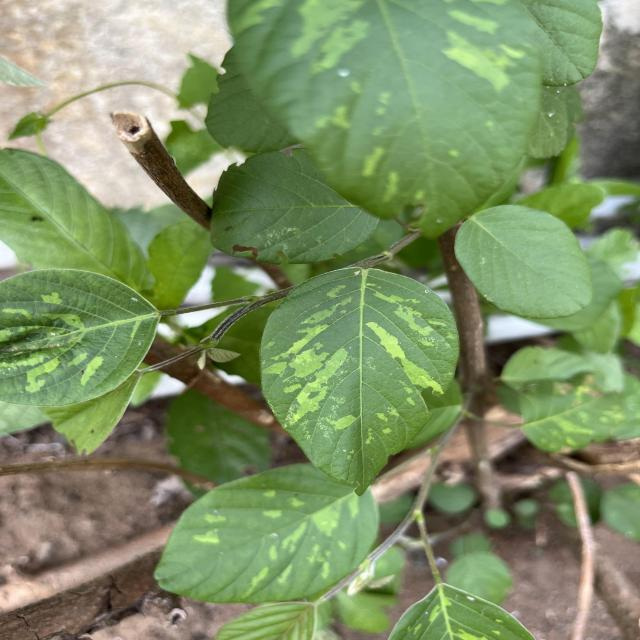Desmodium gangeticum: (256, 252, 462, 500)
